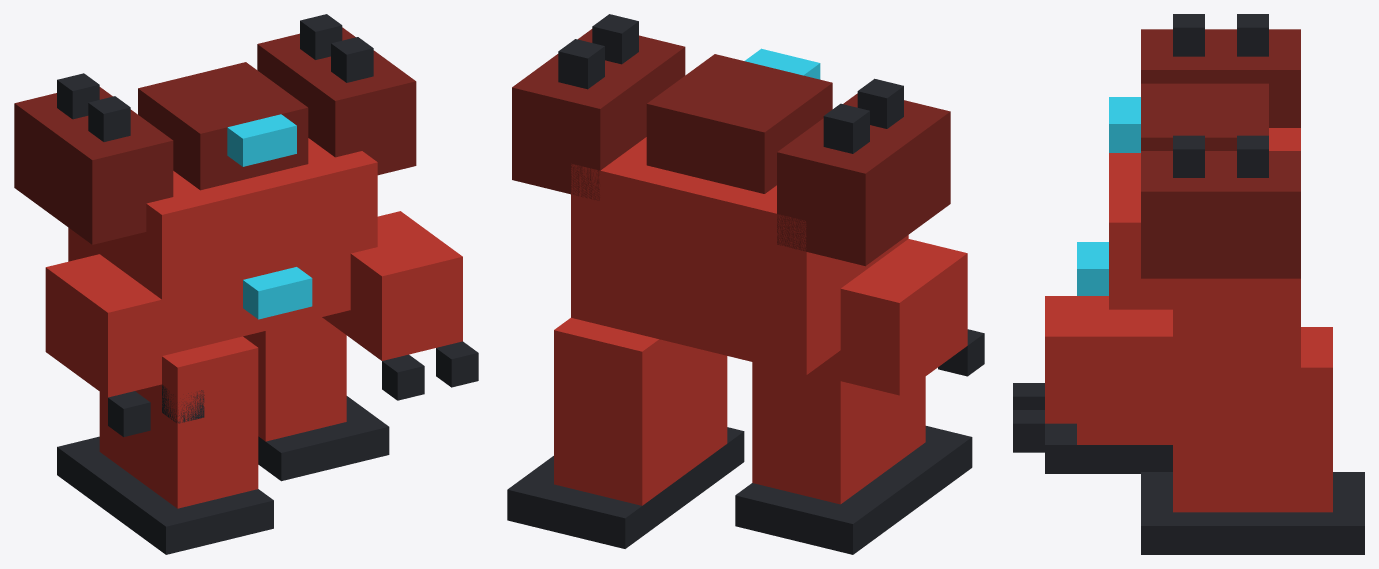
Rendered from mech_heavy_brute_attack.glb.
3 views of the same model, side by side, from view 1: azimuth 30°, elevation 25°; view 2: azimuth 150°, elevation 25°; view 3: azimuth 270°, elevation 25° (orthographic). The views are drawn at different scales.
Parts seen in each view (by area): view 1: Torso mesh, Leg L mesh, Arm L mesh, Feet mesh, Head mesh, Fist L mesh, Fist R mesh, Arm R mesh, Leg R mesh, Spike mesh, Claw mesh; view 2: Torso mesh, Leg R mesh, Feet mesh, Arm L mesh, Head mesh, Leg L mesh, Arm R mesh, Fist L mesh, Spike mesh, Claw mesh; view 3: Leg R mesh, Torso mesh, Arm R mesh, Feet mesh, Fist R mesh, Head mesh, Arm L mesh, Spike mesh, Claw mesh, Leg L mesh.
Part boxes in pixels (box(x1,y1,x2,y2)): Torso mesh: box(68, 138, 377, 355); Leg L mesh: box(99, 336, 258, 508); Arm L mesh: box(14, 87, 173, 244); Feet mesh: box(57, 396, 389, 554); Head mesh: box(138, 62, 308, 190); Fist L mesh: box(45, 254, 188, 397); Fist R mesh: box(322, 211, 462, 360); Arm R mesh: box(257, 27, 416, 175); Leg R mesh: box(243, 317, 346, 441); Spike mesh: box(57, 14, 373, 141); Claw mesh: box(108, 341, 478, 436); Torso mesh: box(571, 137, 908, 374); Leg R mesh: box(554, 318, 727, 505); Feet mesh: box(507, 426, 972, 554); Arm L mesh: box(777, 93, 950, 266); Head mesh: box(646, 48, 832, 193); Leg L mesh: box(752, 351, 925, 504); Arm R mesh: box(512, 29, 685, 200); Fist L mesh: box(811, 239, 967, 395); Spike mesh: box(558, 14, 903, 153); Claw mesh: box(938, 329, 984, 376); Leg R mesh: box(1173, 327, 1332, 512); Torso mesh: box(1077, 128, 1300, 367); Arm R mesh: box(1141, 151, 1300, 278); Feet mesh: box(1045, 423, 1364, 554); Fist R mesh: box(1045, 296, 1172, 423); Head mesh: box(1109, 83, 1268, 152); Arm L mesh: box(1141, 29, 1300, 127); Spike mesh: box(1173, 14, 1268, 177); Claw mesh: box(1013, 383, 1044, 452); Leg L mesh: box(1077, 423, 1172, 444).
Size of the model in its own units: 12 by 14 by 11.
1 material, 1 textured.
